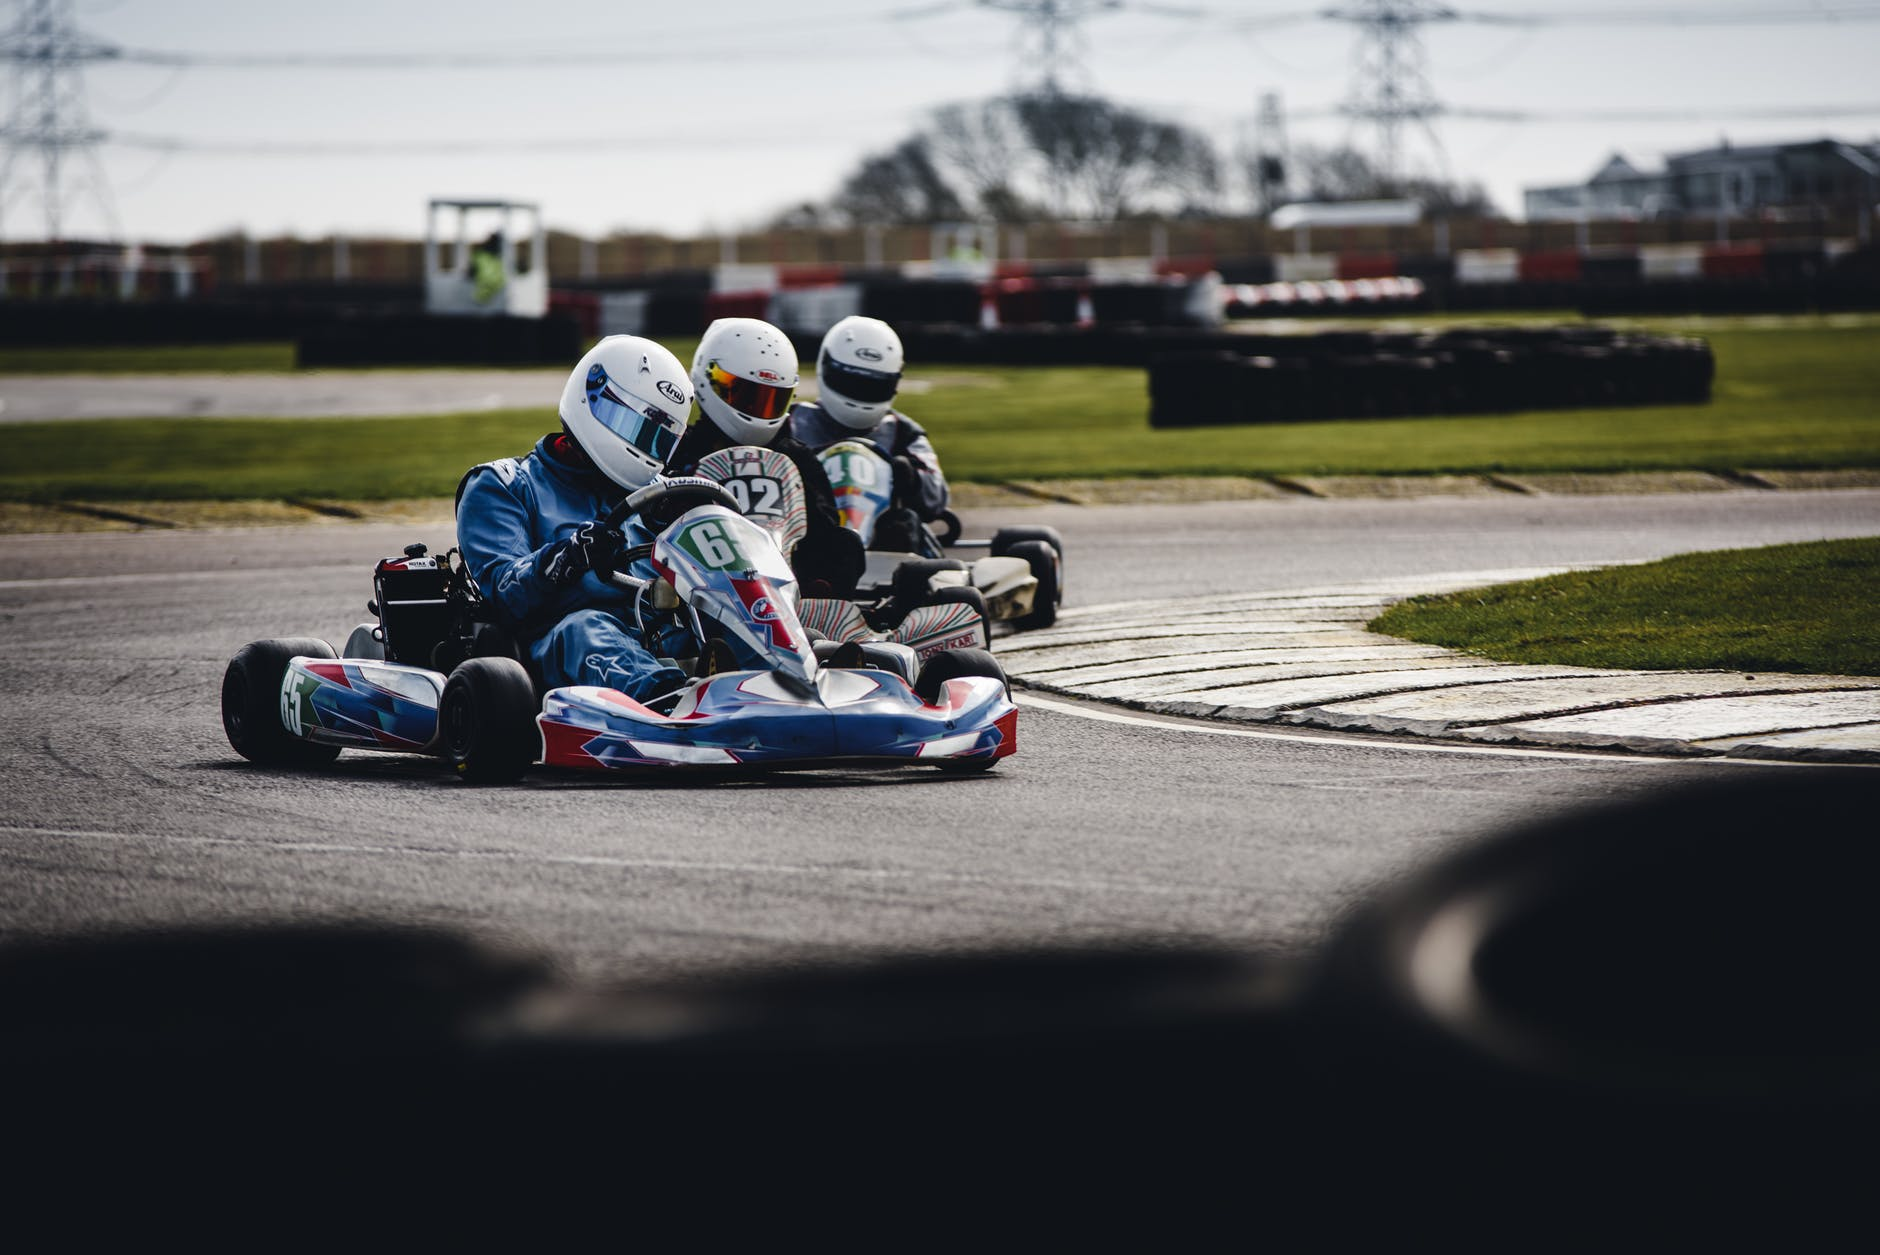helmet: (552, 336, 693, 499), (698, 312, 808, 445), (808, 305, 906, 443)
